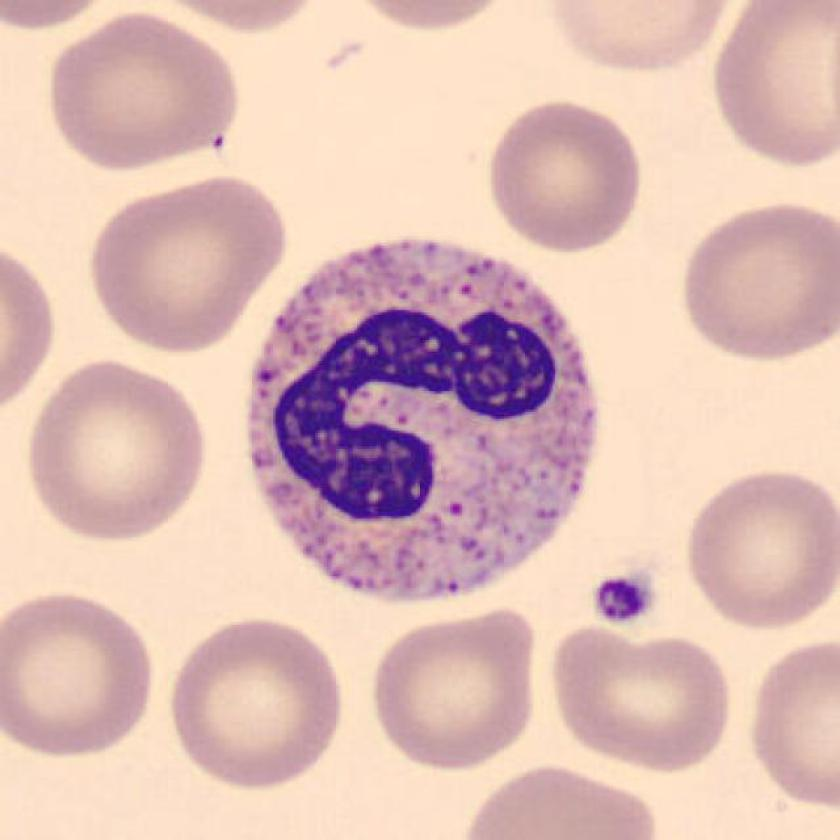neutrophil: (250, 236, 597, 599)
